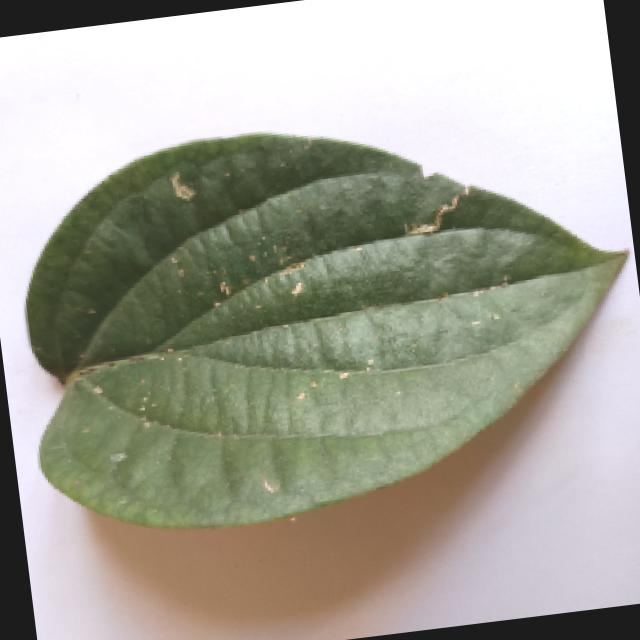pollu-disease: (5, 85, 640, 640)
